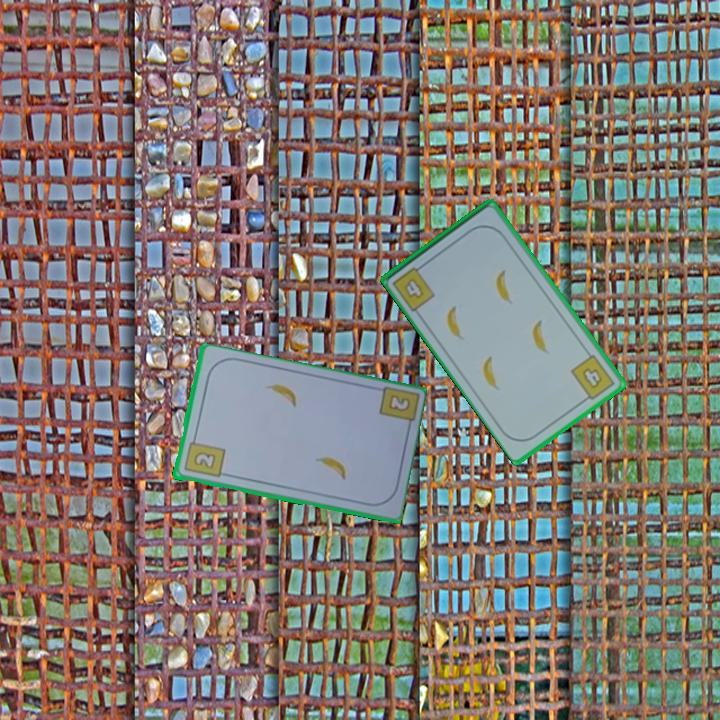2b: (180, 433, 227, 481), (387, 393, 411, 413)
4b: (567, 350, 618, 405), (389, 260, 438, 314)
